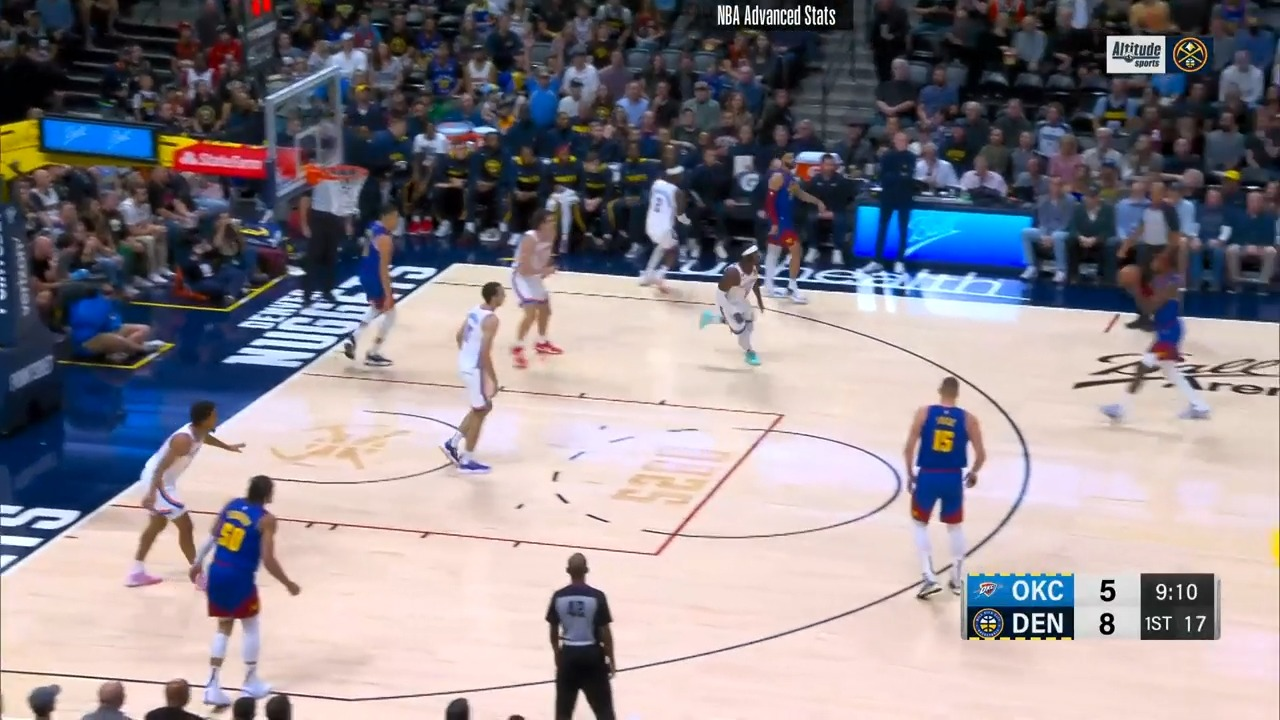net: (304, 158, 376, 217)
player: (199, 474, 310, 717), (120, 396, 243, 592), (897, 372, 990, 613), (1101, 239, 1214, 430), (443, 282, 528, 482), (761, 145, 834, 312), (349, 204, 414, 378), (505, 210, 568, 372), (700, 247, 773, 374), (639, 160, 702, 302)
referee: (539, 551, 623, 718), (1111, 175, 1188, 342), (290, 157, 359, 317)
